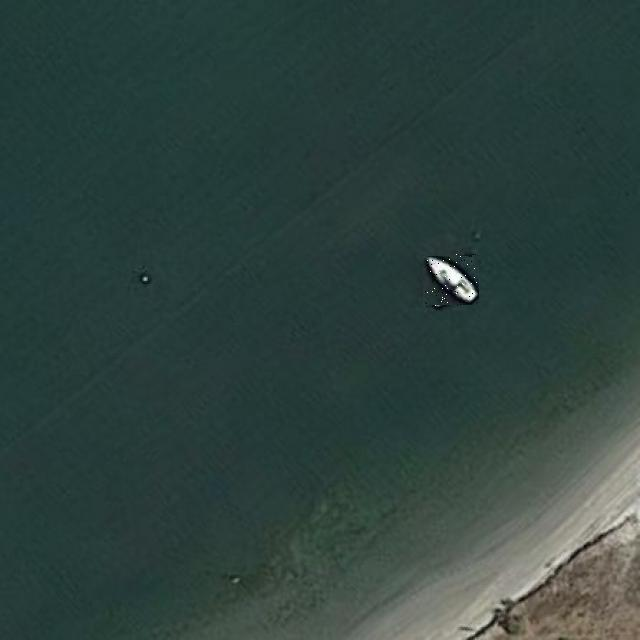boat: (425, 254, 478, 307)
